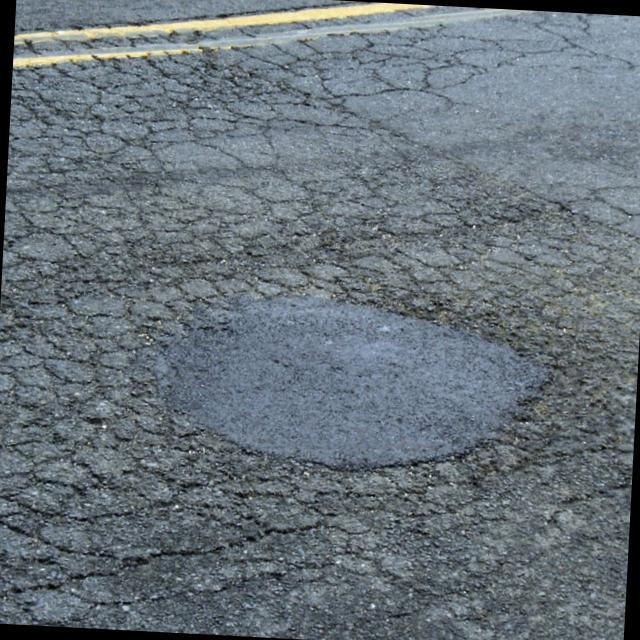Pothole: (162, 274, 570, 501)
